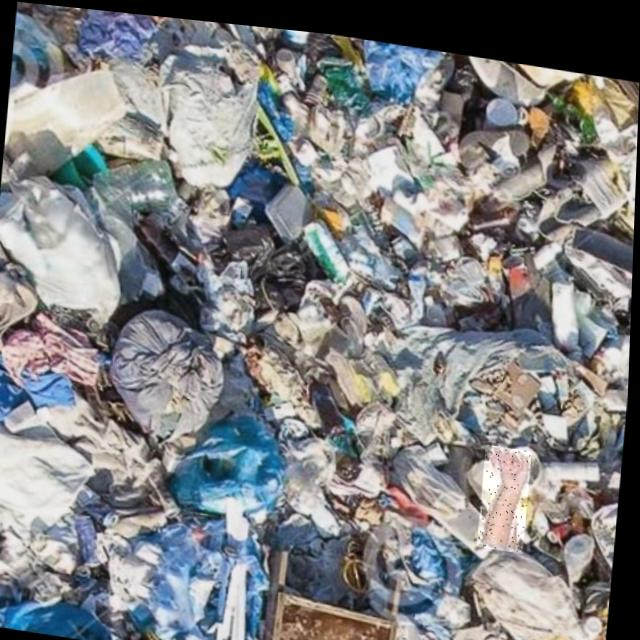Person in Rubble: (480, 433, 534, 542)
